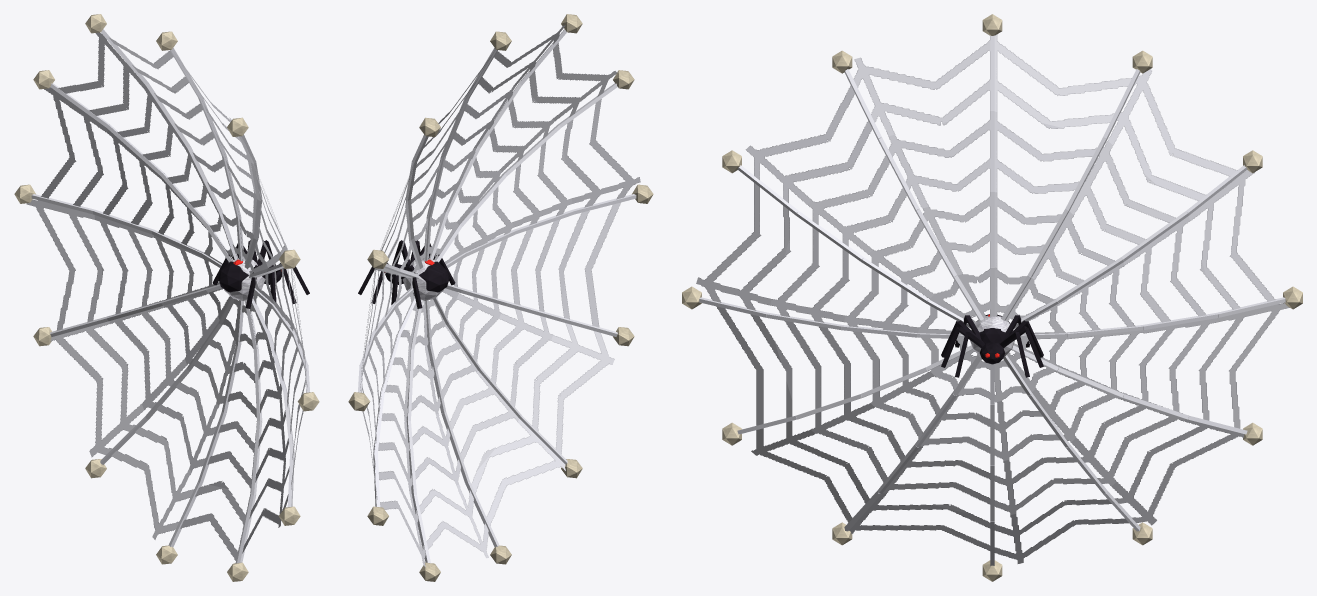
Rendered from projectile.fbx.
3 views of the same model, side by side, from view 1: azimuth 30°, elevation 25°; view 2: azimuth 150°, elevation 25°; view 3: azimuth 270°, elevation 25° (orthographic). The views are drawn at different scales.
Visible parts, largest first — view 1: Detail.003, Detail.005, Detail.001, Detail, Detail.004; view 2: Detail.003, Detail.005, Detail.001, Detail, Detail.004; view 3: Detail.003, Detail.005, Detail.001, Detail.
Part boxes in pixels (x1,y1,x2,y2): Detail.003: (26,32,307,563); Detail.005: (31,29,309,563); Detail.001: (14,14,319,581); Detail: (212,240,309,308); Detail.004: (224,258,265,300); Detail.003: (360,25,640,566); Detail.005: (358,29,636,563); Detail.001: (348,14,653,581); Detail: (358,240,455,308); Detail.004: (402,259,443,300); Detail.003: (696,34,1289,563); Detail.005: (699,35,1285,565); Detail.001: (682,14,1302,581); Detail: (941,314,1043,377).
Bounding box in the file's own units: 0.4924 × 1.86 × 1.86.
6 materials, 6 textured.
